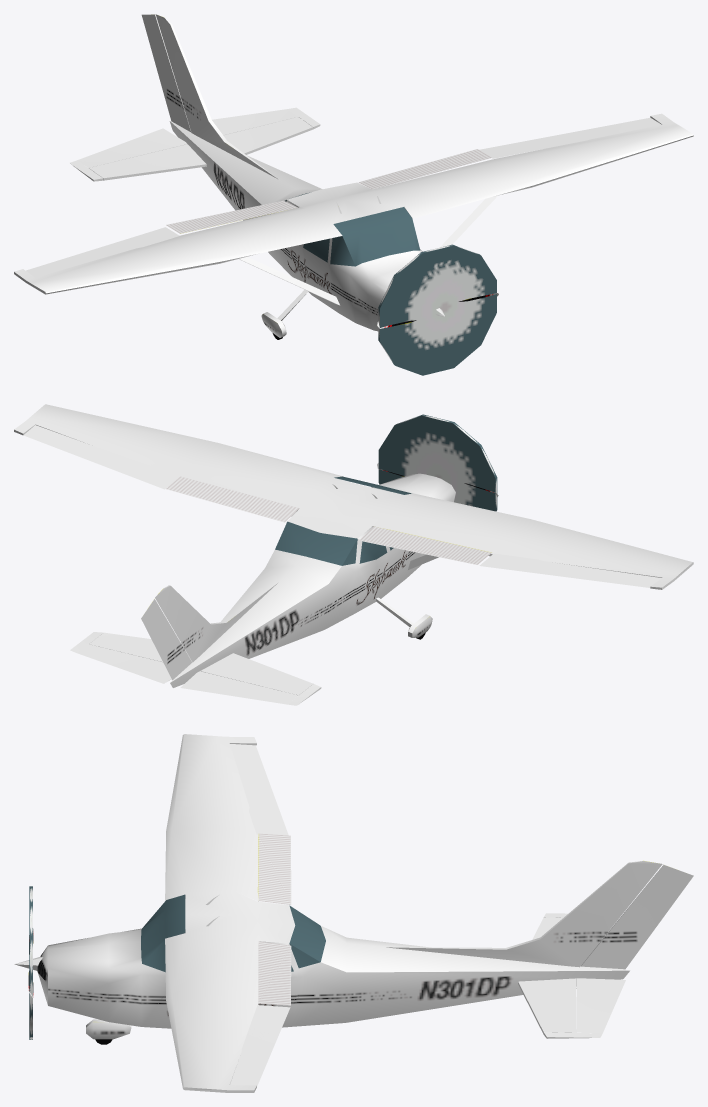
Rendered from civil_c172.glb.
The picture shows the model from 3 angles, top to bottom: view 1: azimuth 30°, elevation 25°; view 2: azimuth 150°, elevation 25°; view 3: azimuth 270°, elevation 25°; orthographic projection. The views are drawn at different scales.
Parts seen in each view (by area): view 1: Compass; view 2: Compass; view 3: Compass.
Boxes of the visible parts, x1,y1,x2,y2 form: Compass: (14,14,693,375); Compass: (14,404,693,705); Compass: (14,734,693,1092).
Size of the model in its own units: 10.21 by 2.53 by 8.3.
Materials: 3 (2 with a texture image).
